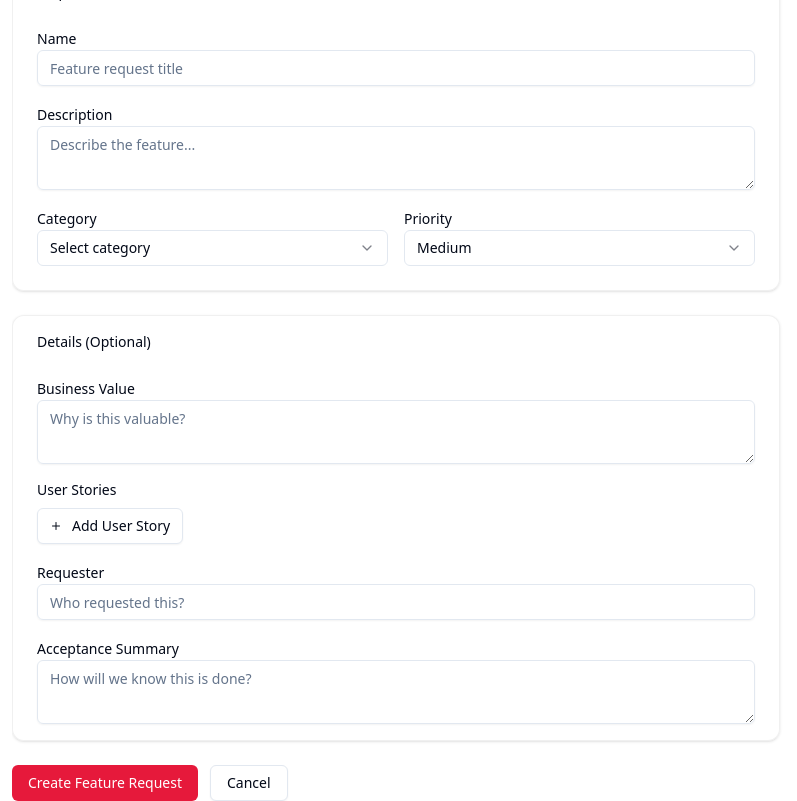
Scenario: FeatureRequestCreatePage › validates required fields on empty submit
(page scrolled)
Click the button "Create Feature Request": (105, 783) [12,765,198,800]
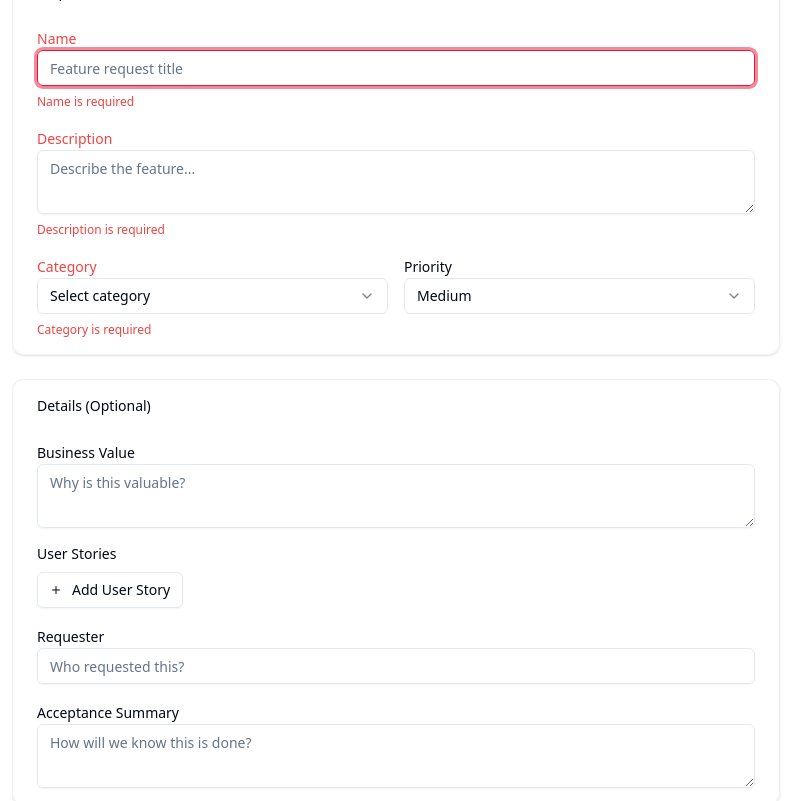
Now the text "Name is required" is shown, box [37,93,134,110]
Now the text "Description is required" is shown, box [37,221,165,238]
Now the text "Category is required" is shown, box [37,321,152,338]
